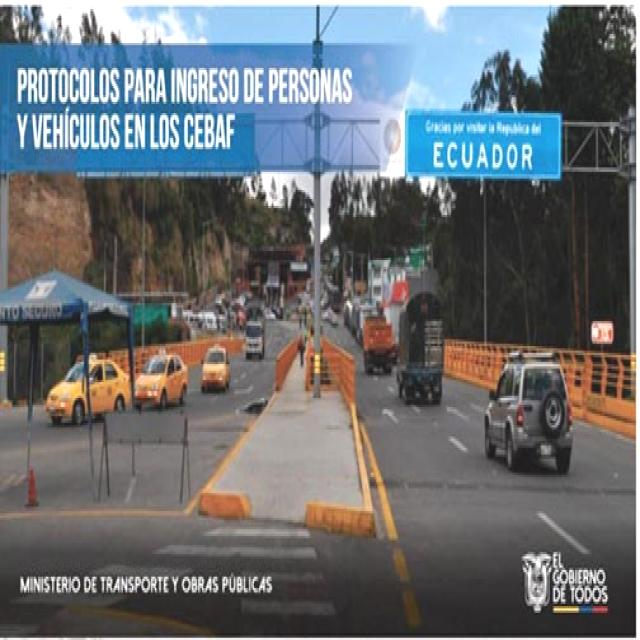SUV: (484, 349, 574, 476)
TRUCK: (400, 301, 444, 407), (364, 314, 396, 378), (244, 305, 268, 359)
